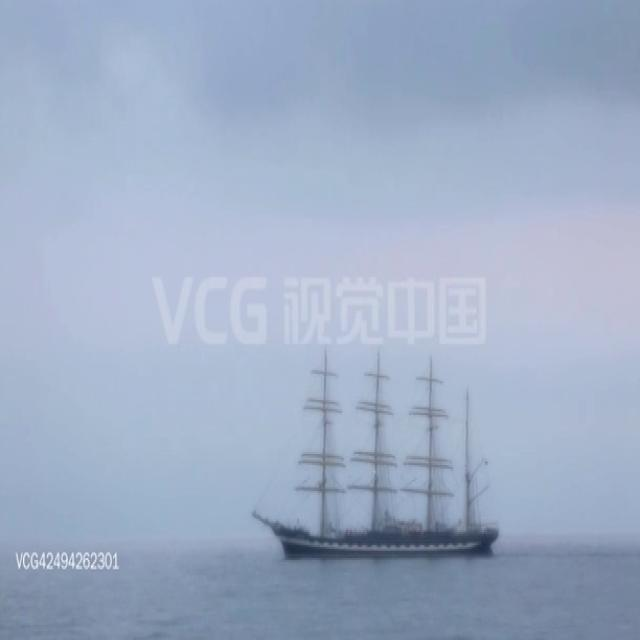sailboat: (250, 348, 501, 561)
